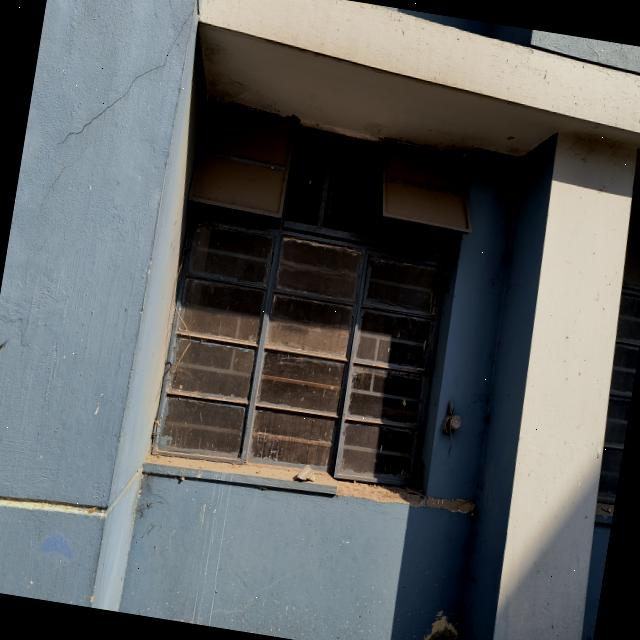crack: (57, 1, 195, 145)
peeling: (334, 478, 477, 515)
